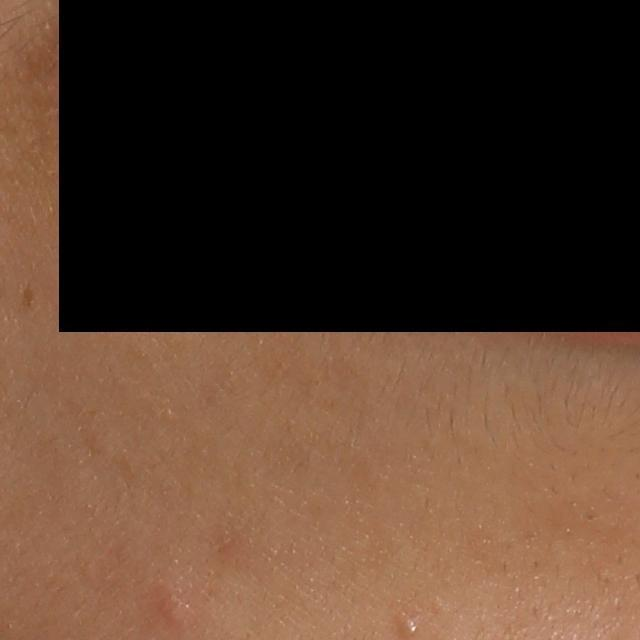papule: (156, 591, 190, 630)
